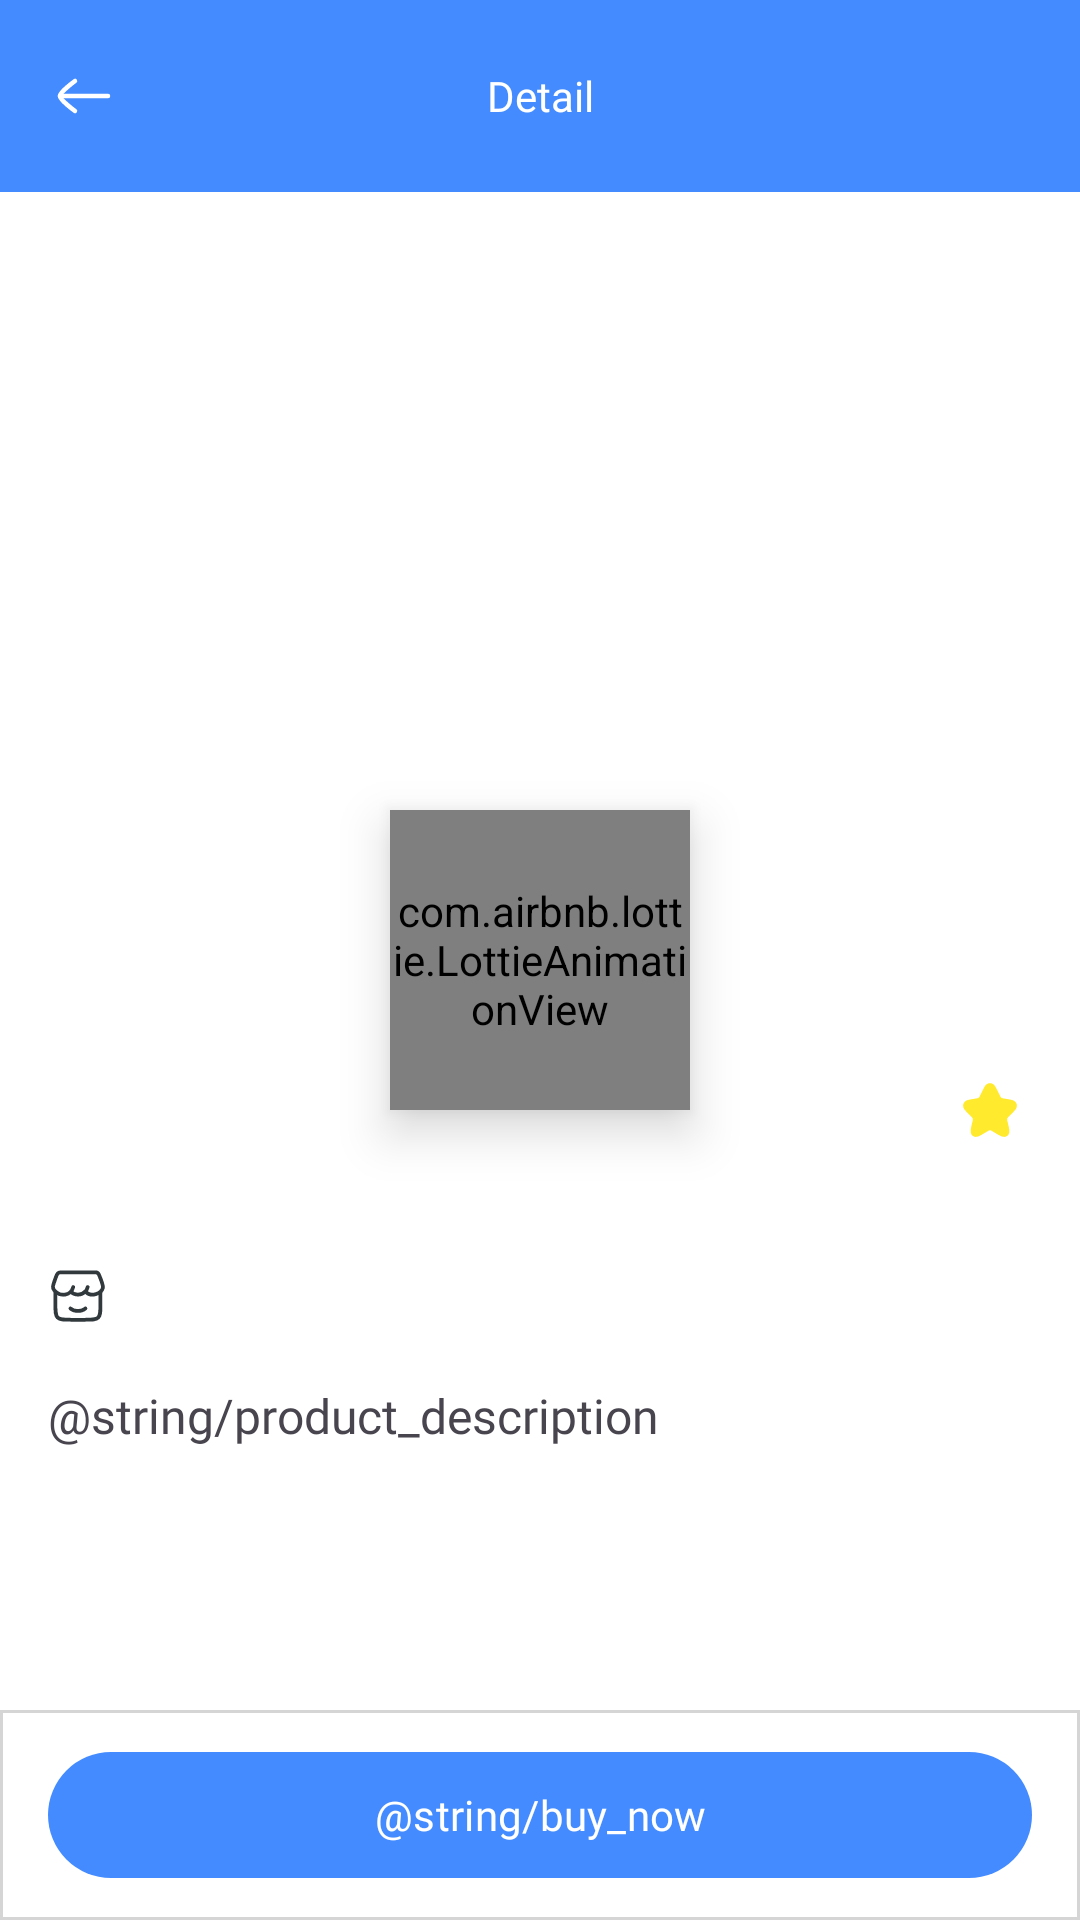

Icon click points for this 1080px x 1920px phone screenshot, format point (x, y):
store stroke rounded: point (78, 1296)
